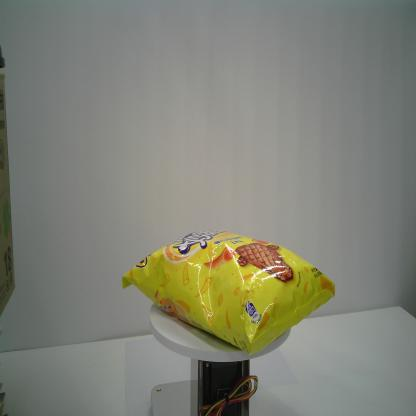Puffed Food: (121, 228, 336, 356)
